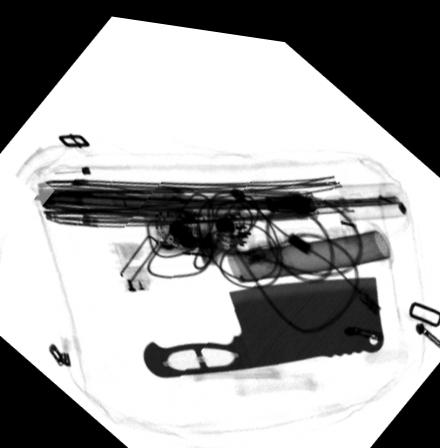Knife: (141, 264, 385, 373)
